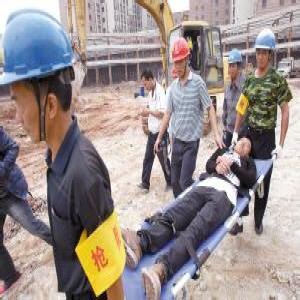blue: (2, 10, 79, 152), (253, 28, 278, 70), (226, 48, 243, 76)
none: (234, 133, 254, 165), (141, 68, 155, 94)
red: (171, 37, 192, 79)
